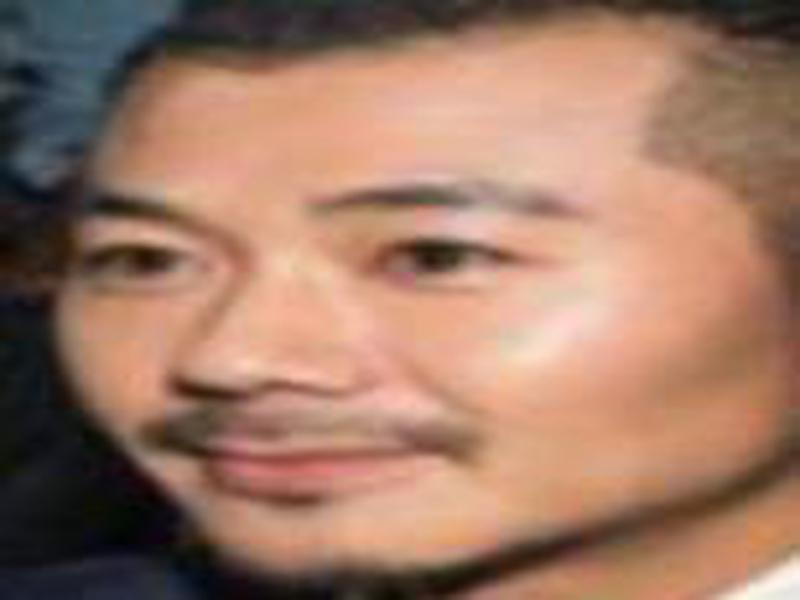without_mask: (48, 57, 749, 580)
